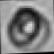correct: (4, 4, 54, 52)
